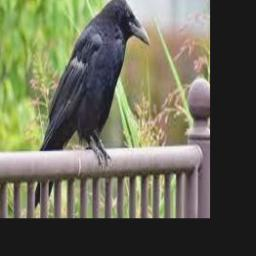Crow: (33, 0, 150, 209)
